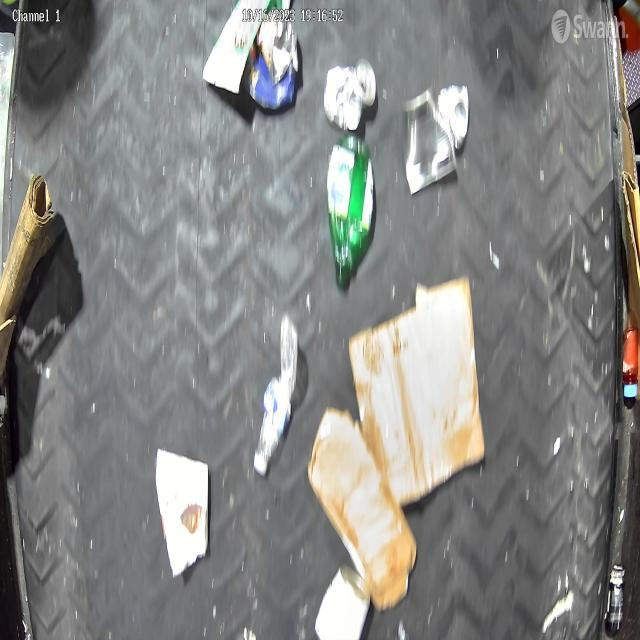can: (402, 85, 455, 197), (314, 561, 374, 640), (322, 56, 378, 130), (438, 80, 470, 150)
plastic_bottle: (252, 310, 300, 478)
